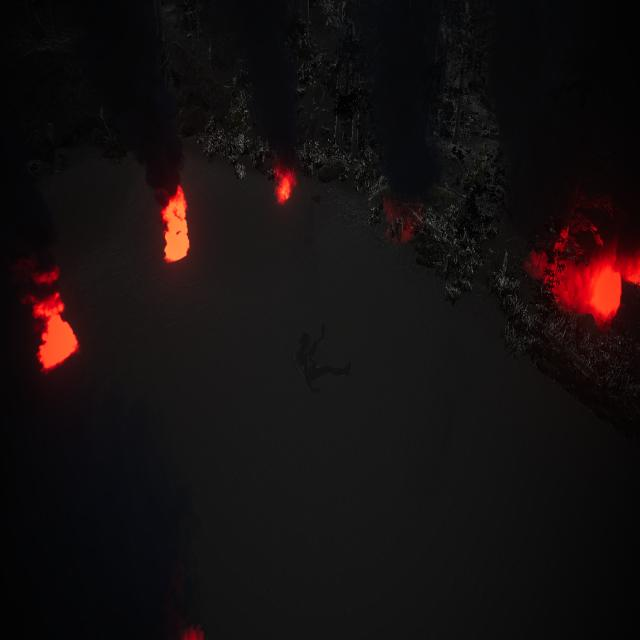Human: (285, 309, 358, 400)
